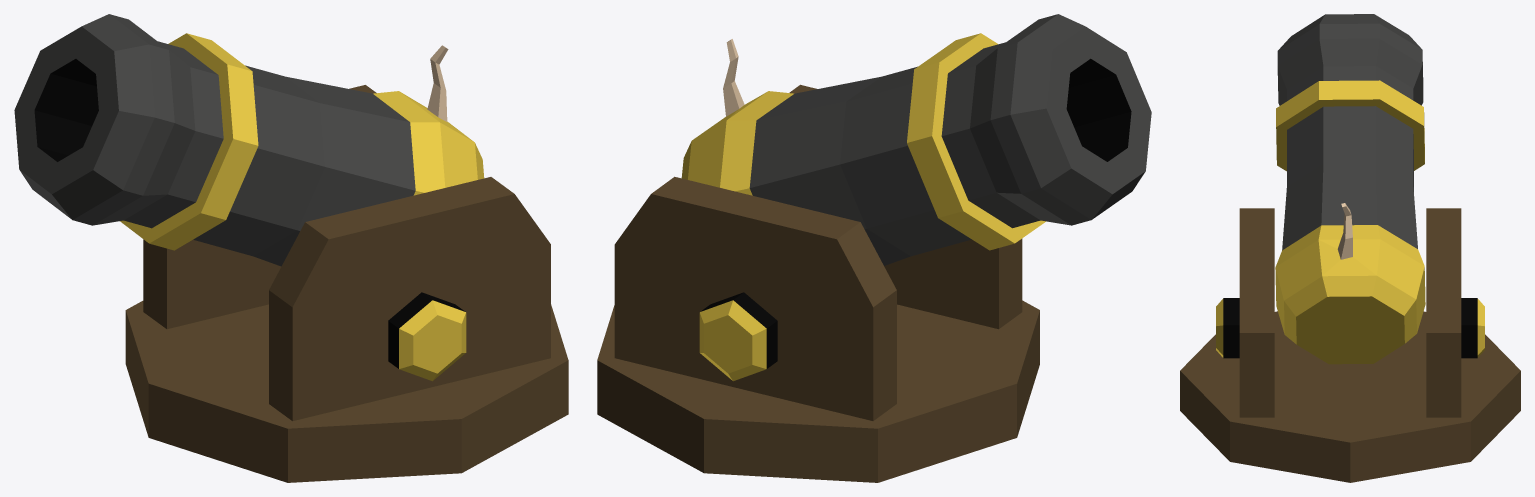
File: cannon.fbx
The picture shows the model from 3 angles, left to right: view 1: azimuth 30°, elevation 25°; view 2: azimuth 150°, elevation 25°; view 3: azimuth 270°, elevation 25°; orthographic projection. The views are drawn at different scales.
Visible parts, largest first — view 1: Circle, Circle.001; view 2: Circle, Circle.001; view 3: Circle, Circle.001.
Boxes of the visible parts, <box> form: Circle: <box>125,85,568,482</box>; Circle.001: <box>14,14,484,266</box>; Circle: <box>597,84,1039,482</box>; Circle.001: <box>681,14,1151,265</box>; Circle: <box>1180,208,1520,482</box>; Circle.001: <box>1275,14,1425,364</box>.
Bounding box in the file's own units: 676 × 525 × 527.
